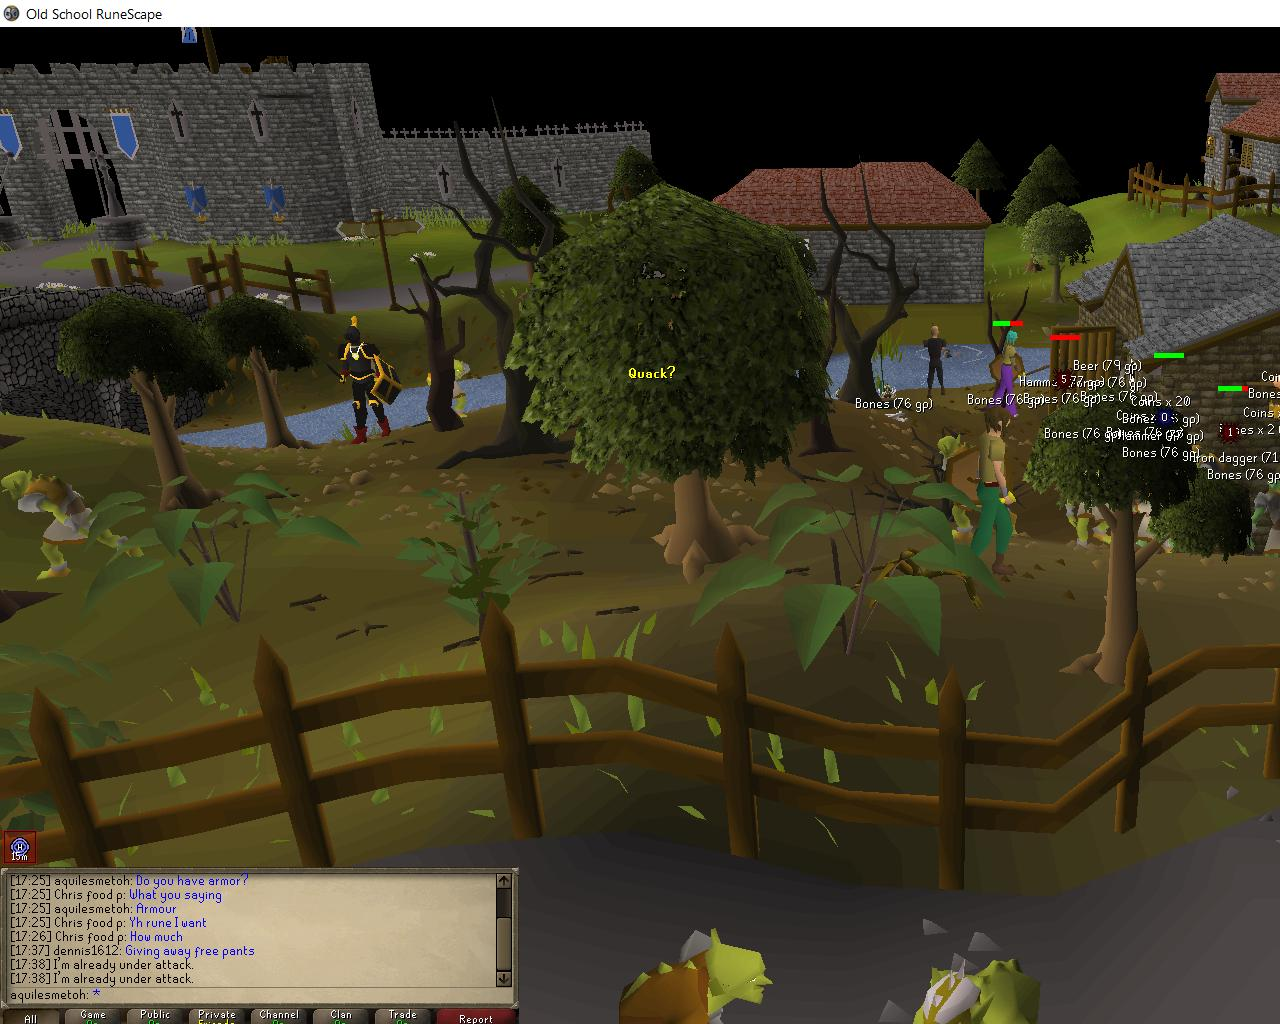Goblin: (1, 466, 147, 579), (618, 928, 772, 1024), (909, 952, 1047, 1024), (927, 432, 1015, 535), (1054, 447, 1132, 545), (421, 356, 481, 424)
